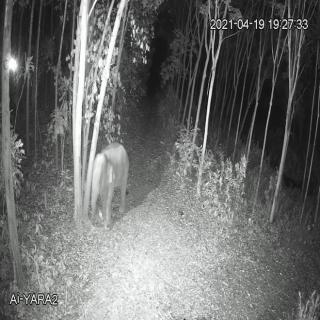Elephant: (87, 140, 133, 227)
